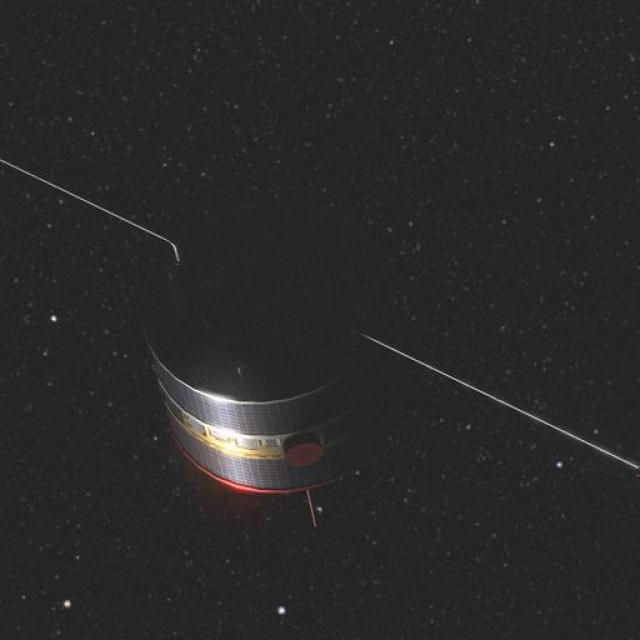double_start: (130, 194, 428, 524)
